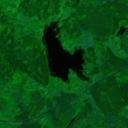alloviz: (40, 19, 91, 82), (115, 25, 127, 36)
